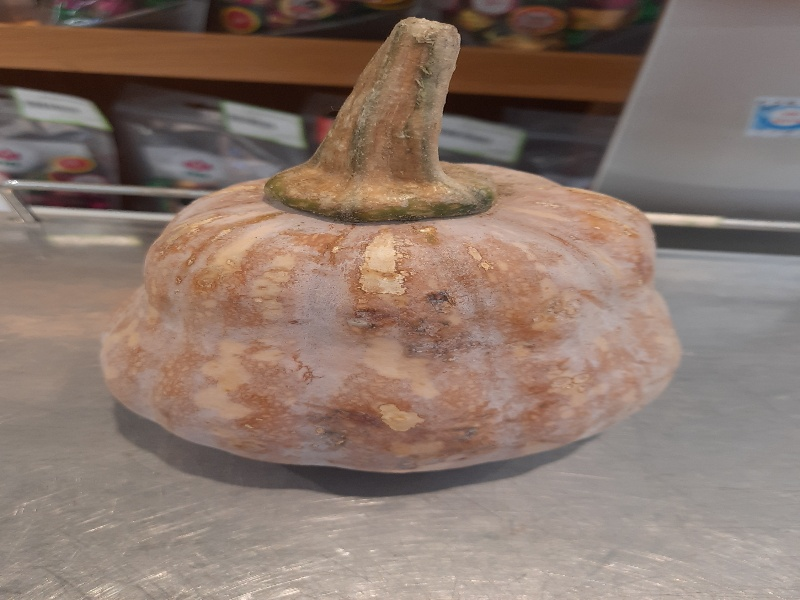vege: (97, 16, 686, 487)
